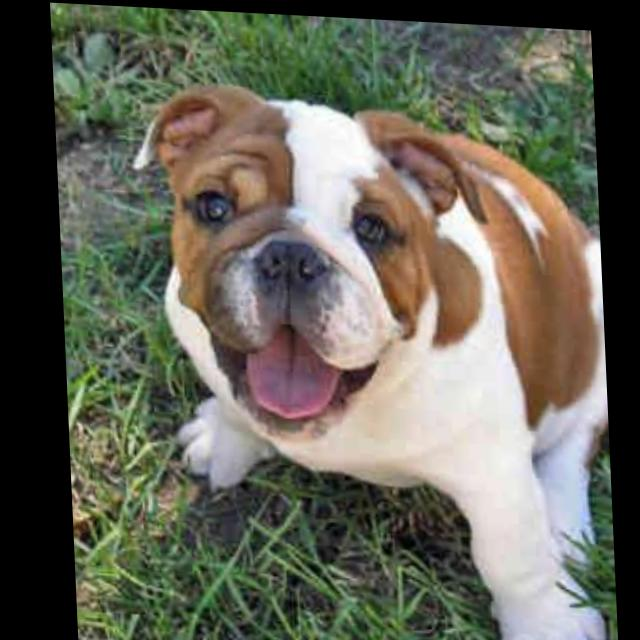bullmastiff: (127, 77, 614, 640)
